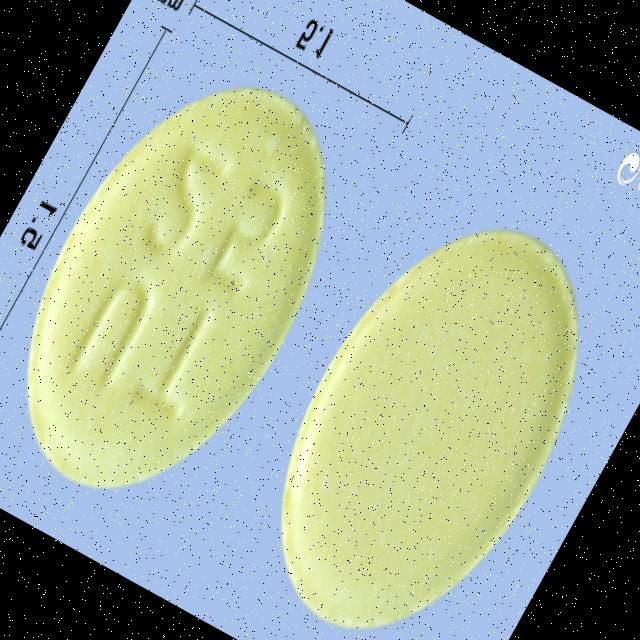Azaprine -25mg: (0, 32, 394, 545), (216, 173, 640, 640)
